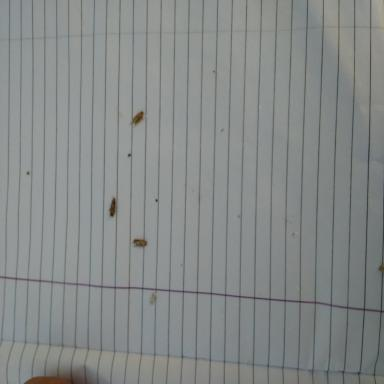pbw: (130, 111, 144, 125), (109, 196, 116, 217), (132, 238, 148, 247)
